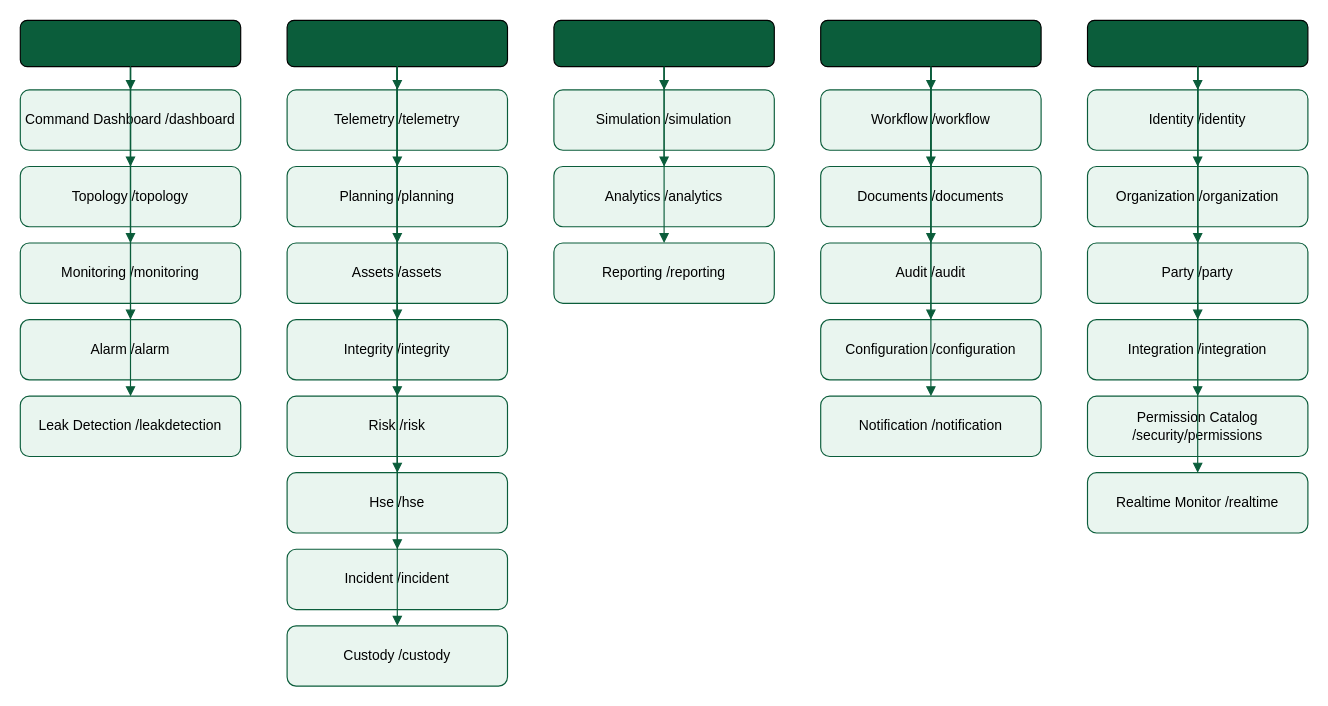
The diagram is 1328 pixels wide and 706 high, and some of its shapes have lost their labels. Here are the shapes that lost their labels. From the top down, the box of each, then its label:
(19, 19, 241, 67): Foundation
(286, 19, 507, 67): Operations
(553, 19, 774, 67): Decision Support
(820, 19, 1041, 67): Governance
(1086, 19, 1308, 67): Administration
